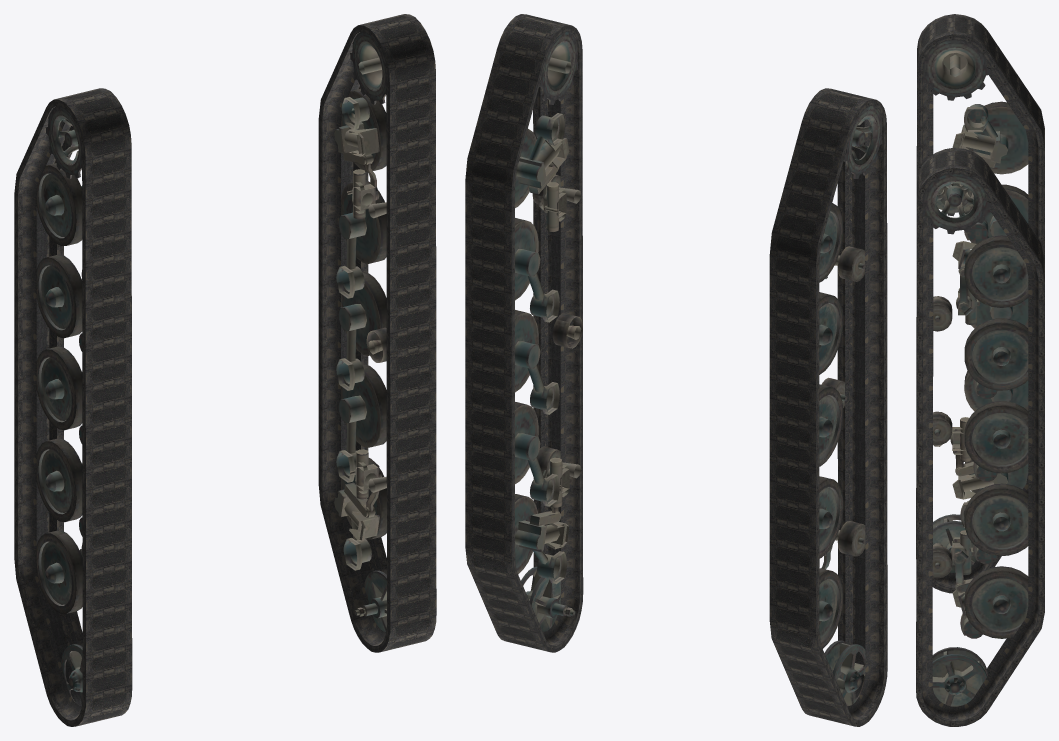
File: Chassis.glb
3 views of the same model, side by side, from view 1: azimuth 30°, elevation 25°; view 2: azimuth 150°, elevation 25°; view 3: azimuth 270°, elevation 25° (orthographic). The views are drawn at different scales.
Parts seen in each view (by area): view 1: set_3_group_0, set_2_group_0, set_0_group_0, set_1_group_0; view 2: set_3_group_0, set_2_group_0, set_0_group_0, set_1_group_0; view 3: set_0_group_0, set_2_group_0, set_1_group_0, set_3_group_0.
Part boxes in pixels (left/top/right/bottom): set_3_group_0: left=14, top=88, right=132, bottom=726; set_2_group_0: left=318, top=14, right=436, bottom=652; set_0_group_0: left=334, top=32, right=386, bottom=631; set_1_group_0: left=36, top=106, right=82, bottom=704; set_3_group_0: left=769, top=88, right=887, bottom=726; set_2_group_0: left=465, top=14, right=583, bottom=652; set_0_group_0: left=515, top=31, right=582, bottom=631; set_1_group_0: left=819, top=106, right=882, bottom=705; set_0_group_0: left=923, top=173, right=1028, bottom=706; set_2_group_0: left=916, top=147, right=1044, bottom=726; set_1_group_0: left=923, top=40, right=1028, bottom=572; set_3_group_0: left=916, top=14, right=1044, bottom=593.
Bounding box in the file's own units: 2.43 × 4.12 × 0.8611.
4 materials, 4 textured.
